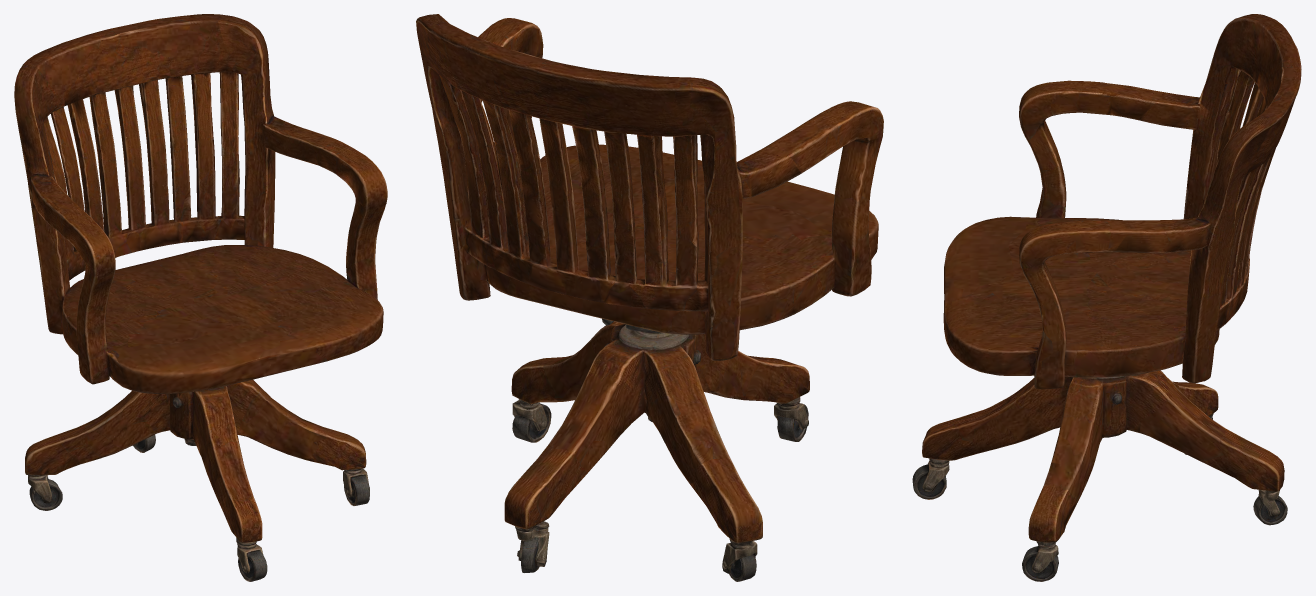
File: chair.glb
The picture shows the model from 3 angles, left to right: view 1: azimuth 30°, elevation 25°; view 2: azimuth 150°, elevation 25°; view 3: azimuth 270°, elevation 25°; orthographic projection. The views are drawn at different scales.
Size of the model in its own units: 1.4 by 1.9 by 1.5.
Materials: 1 (1 with a texture image).
